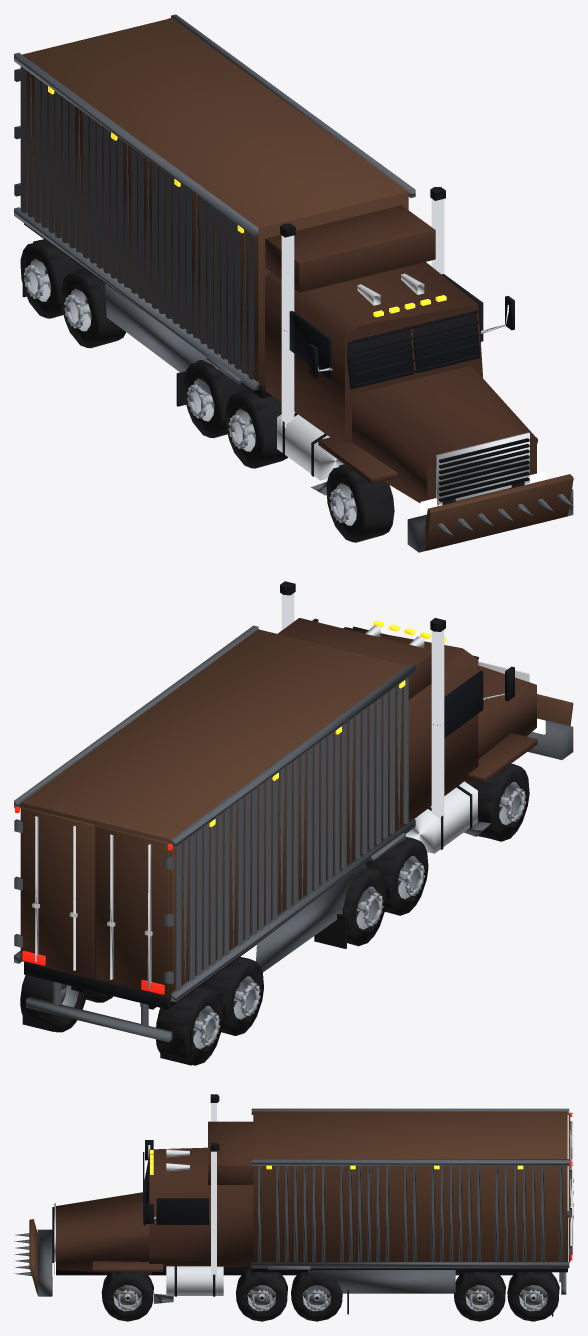
Rendered from war-rig-lod.glb.
The picture shows the model from 3 angles, top to bottom: view 1: azimuth 30°, elevation 25°; view 2: azimuth 150°, elevation 25°; view 3: azimuth 270°, elevation 25°; orthographic projection. The views are drawn at different scales.
Visible parts, largest first — view 1: Body, WheelFL, WheelD1L, WheelT1L, WheelT2L, WheelD2L; view 2: Body, WheelT2L, WheelFL, WheelT1L, WheelD1L, WheelD2L, WheelT2R; view 3: Body, WheelD1R, WheelFR, WheelT1R, WheelT2R, WheelD2R.
Part boxes in pixels (x1,y1,x2,y2): Body: [14, 14, 573, 552]; WheelFL: [326, 464, 394, 542]; WheelD1L: [225, 389, 287, 468]; WheelT1L: [61, 269, 126, 348]; WheelT2L: [20, 239, 84, 318]; WheelD2L: [183, 360, 248, 438]; Body: [14, 581, 573, 1065]; WheelT2L: [156, 986, 223, 1065]; WheelFL: [471, 763, 529, 841]; WheelT1L: [200, 957, 263, 1035]; WheelD1L: [366, 837, 428, 915]; WheelD2L: [342, 867, 386, 946]; WheelT2R: [20, 975, 87, 1032]; Body: [14, 1094, 573, 1316]; WheelD1R: [236, 1268, 287, 1321]; WheelFR: [101, 1272, 153, 1321]; WheelT1R: [454, 1272, 505, 1321]; WheelT2R: [507, 1272, 559, 1321]; WheelD2R: [291, 1272, 342, 1321].
Size of the model in its own units: 3.19 by 4.04 by 11.69.
